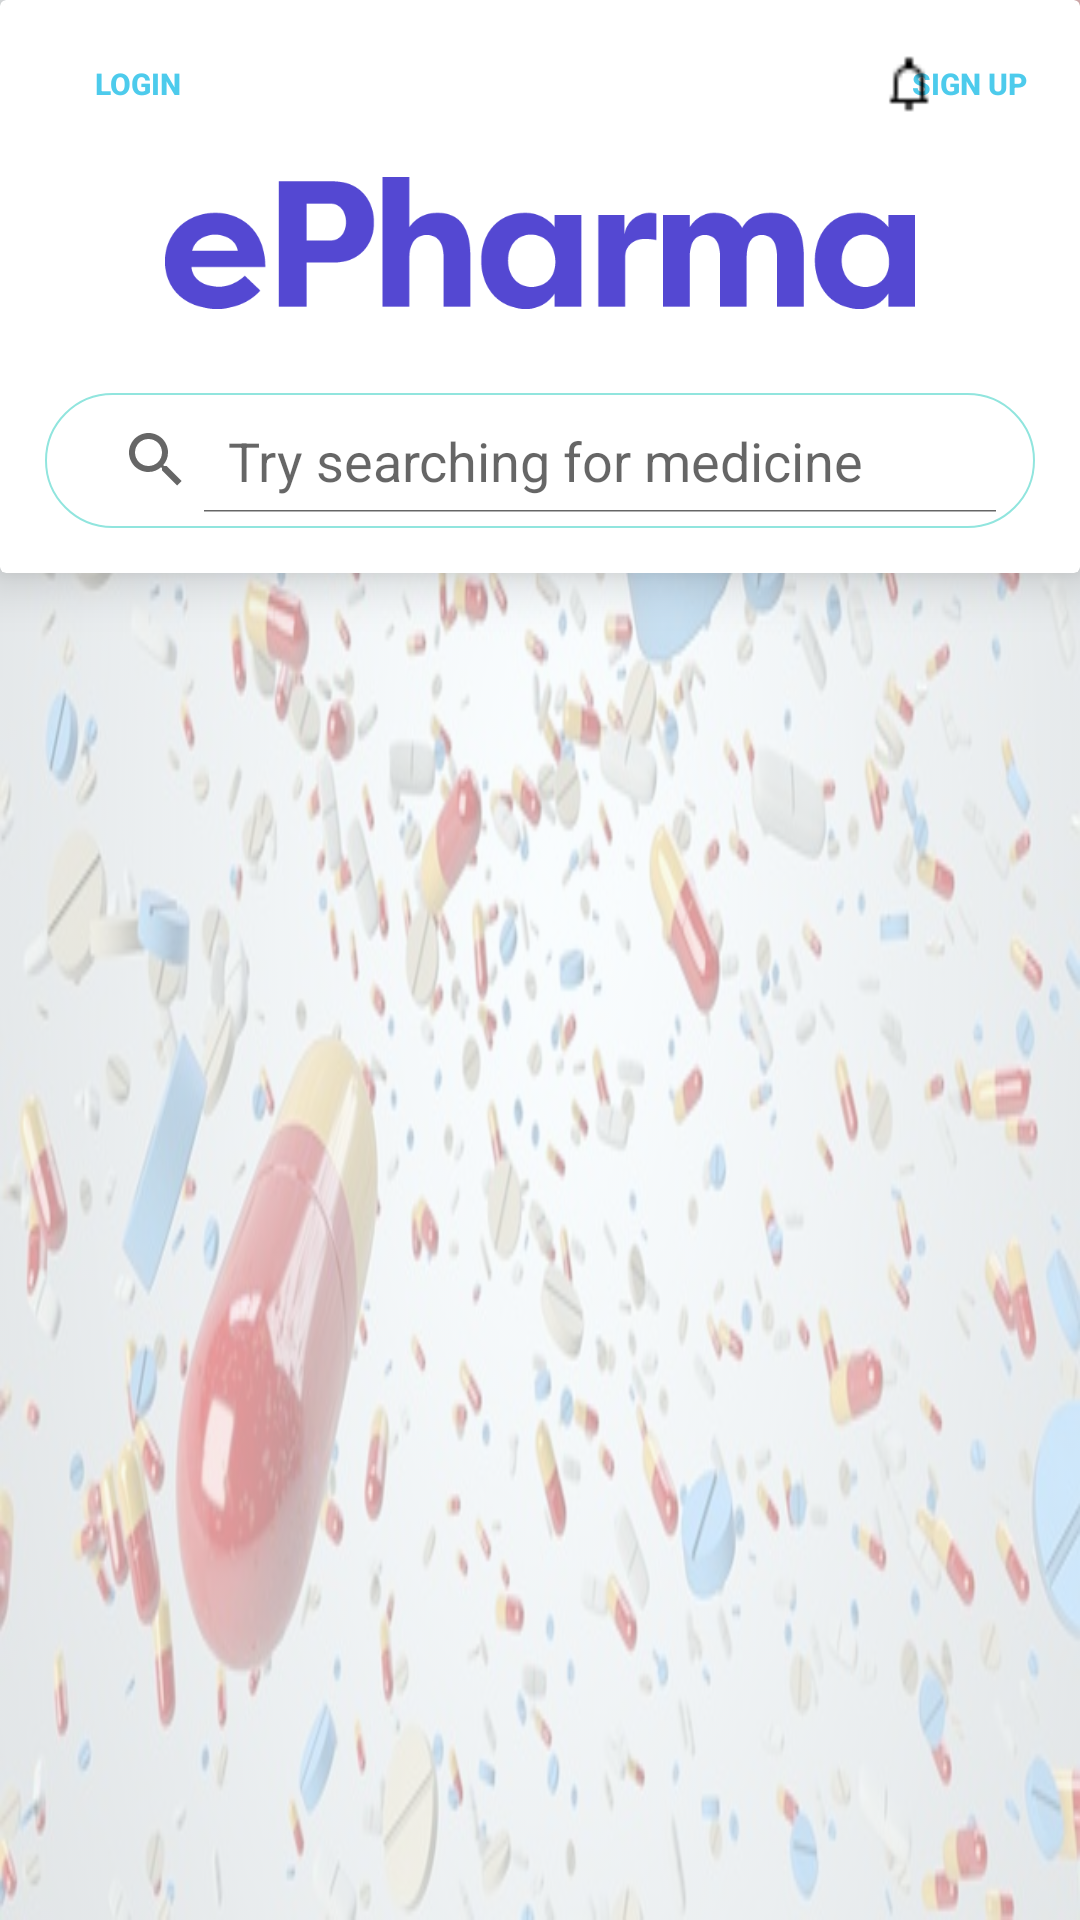

Screen size 1080 × 1920. Icon name, then its box in pixels as BBox(x1, y1, x2, y2):
notication: BBox(889, 56, 938, 112)
